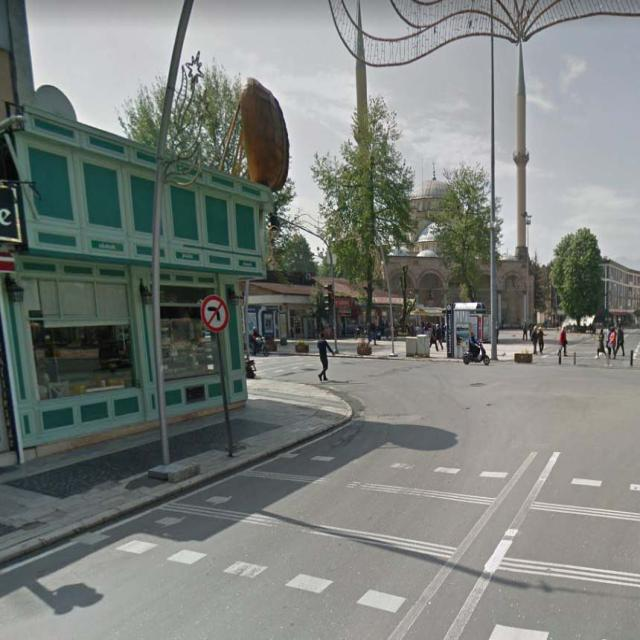soladonulmez: (202, 297, 228, 333)
